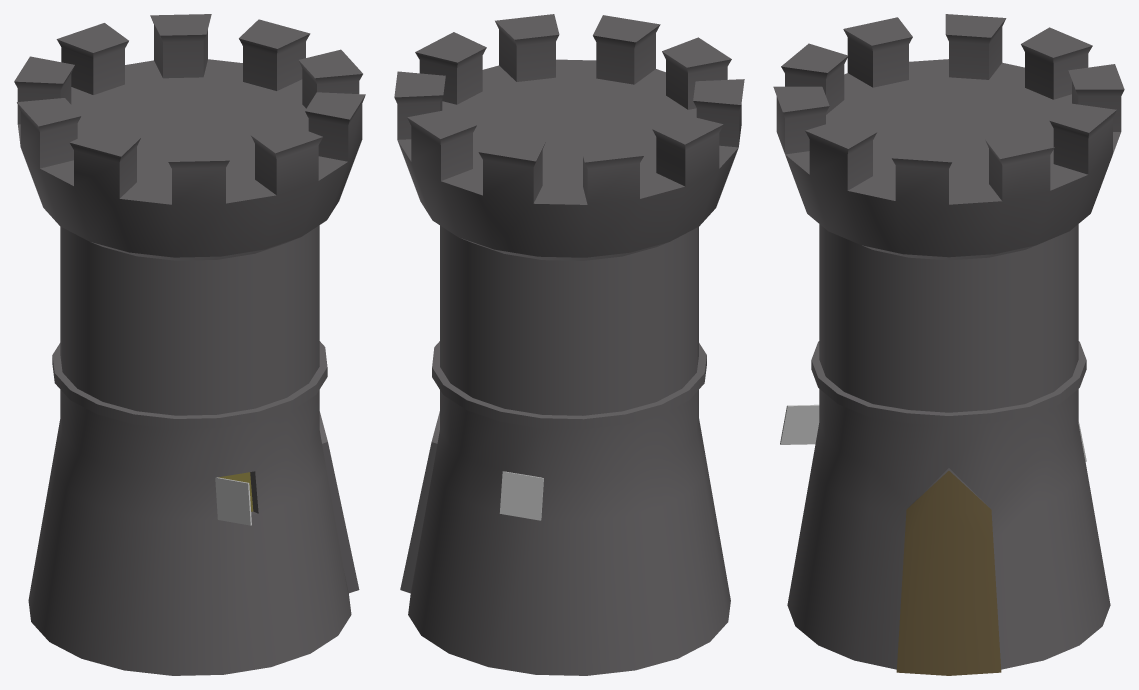
The model's file is Tower_Outside.fbx.
3 renders of one model, left to right at view 1: azimuth 30°, elevation 25°; view 2: azimuth 150°, elevation 25°; view 3: azimuth 270°, elevation 25°, orthographic.
Visible parts, largest first — view 1: tower; view 2: tower; view 3: tower.
Boxes of the visible parts, box(x1,y1,x2,y2) form: tower: box(14, 14, 365, 675); tower: box(394, 14, 744, 675); tower: box(773, 14, 1124, 675).
Bounding box in the file's own units: 2.46 × 3.99 × 2.46.
